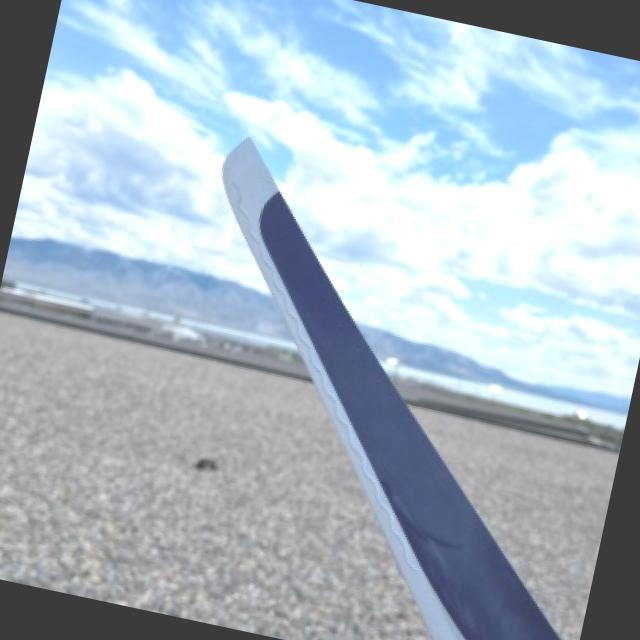healthy: (225, 139, 563, 640)
